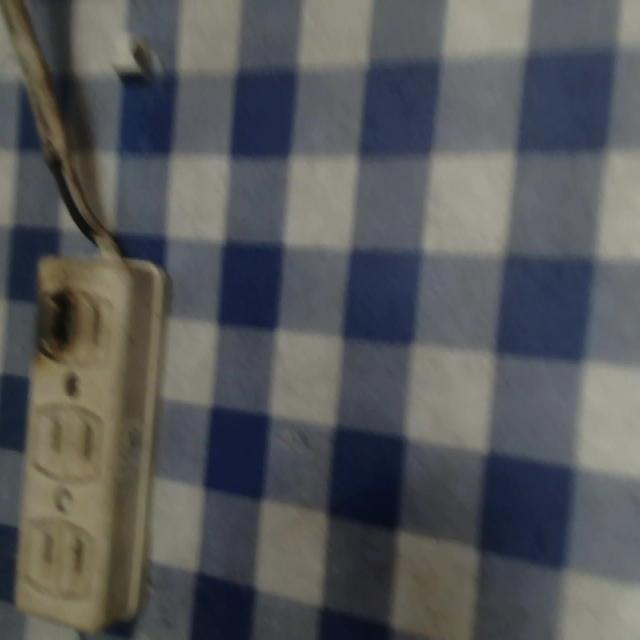-: (35, 281, 85, 367)
